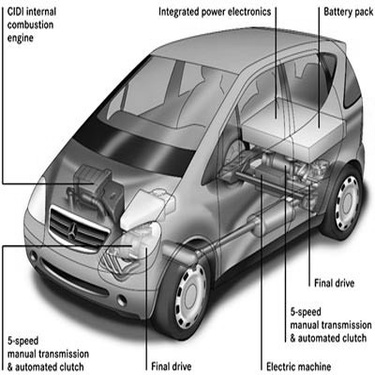car: (18, 29, 360, 329)
